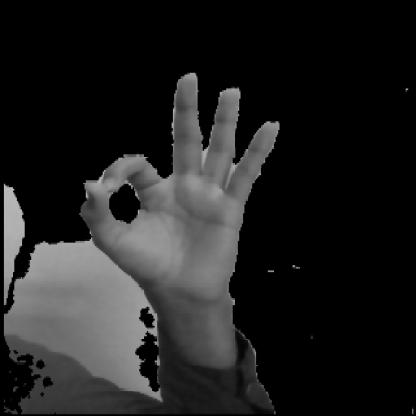ok: (41, 66, 292, 340)
